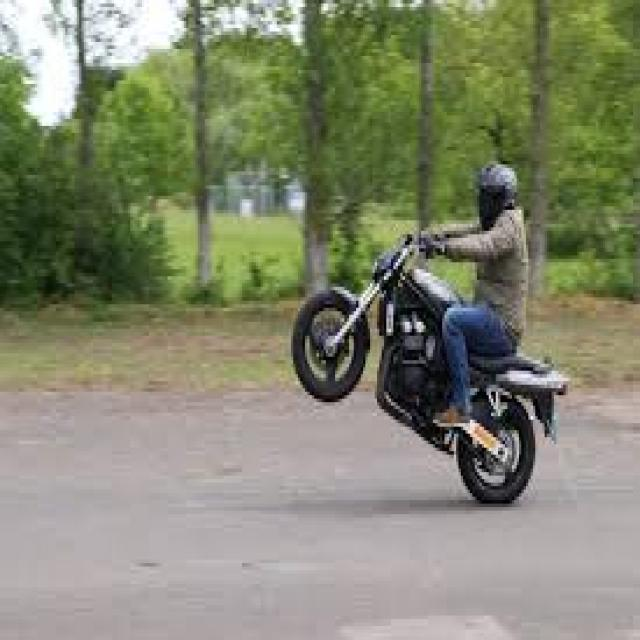Wheeling: (313, 199, 598, 474)
